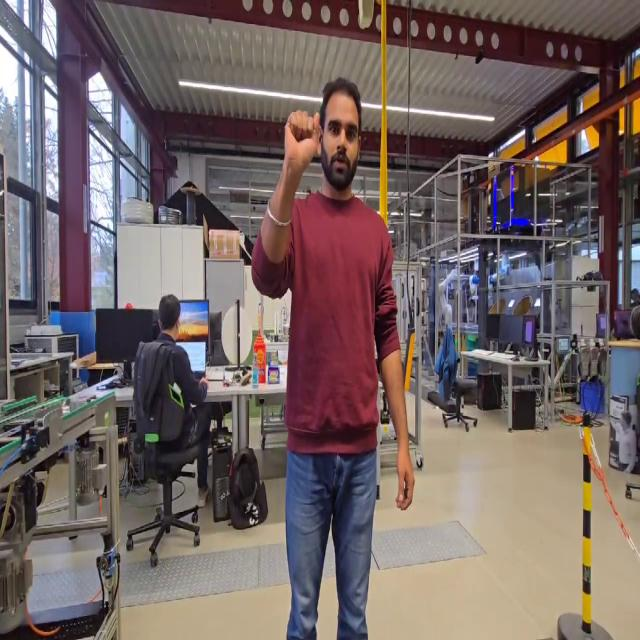closed_fist: (282, 104, 322, 172)
